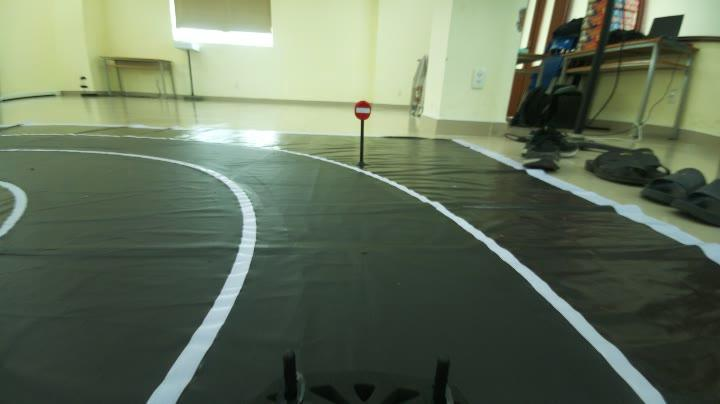no_entry: (348, 99, 378, 126)
